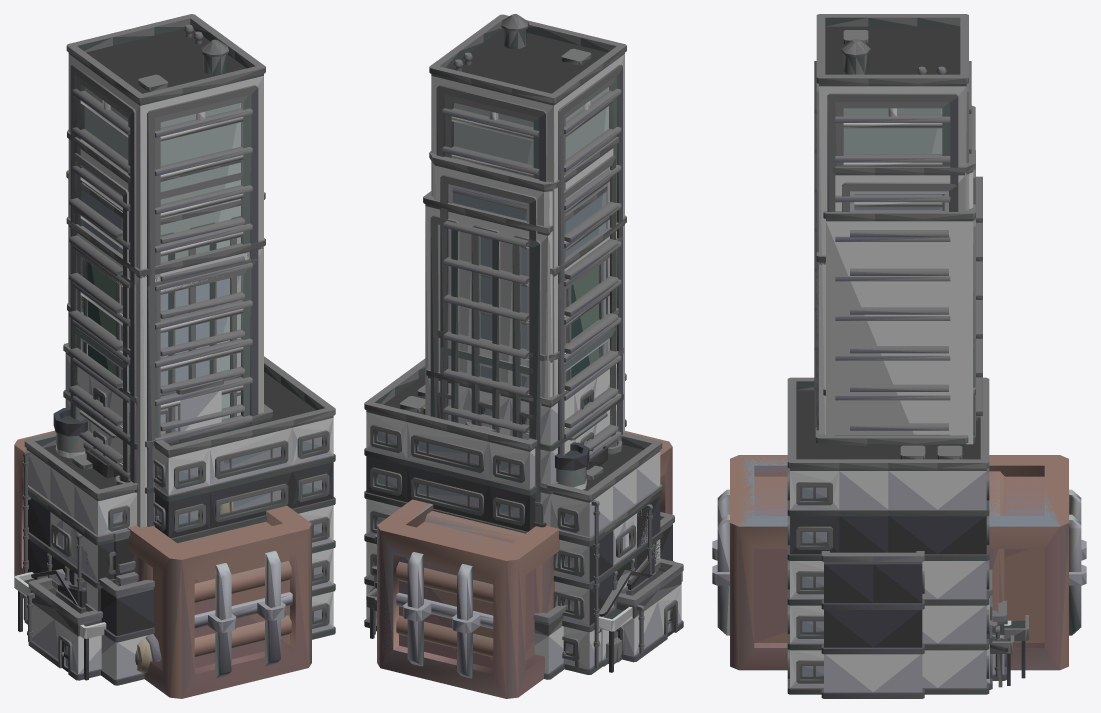
Rendered from meridian-city-buildings.glb.
3 renders of one model, left to right at view 1: azimuth 30°, elevation 25°; view 2: azimuth 150°, elevation 25°; view 3: azimuth 270°, elevation 25°, orthographic. The views are drawn at different scales.
Visible parts, largest first — view 1: com-building-skyscraper-d, ind-shipping-container-a, com-building-n, com-building-skyscraper-c, com-building-skyscraper-b, com-building-j, ind-building-r, com-building-skyscraper-e, ind-building-q, com-building-skyscraper-a, ind-building-a, com-building-m (+5 smaller); view 2: com-building-skyscraper-d, ind-shipping-container-a, com-building-skyscraper-b, com-building-n, com-building-skyscraper-e, com-building-j, com-building-m, com-building-skyscraper-c, com-building-skyscraper-a, ind-shipping-container-b, ind-building-r, ind-building-a (+5 smaller); view 3: com-building-n, com-building-skyscraper-d, ind-shipping-container-a, com-building-skyscraper-e, ind-building-r, com-building-skyscraper-b, ind-shipping-container-b, com-building-skyscraper-c, com-building-skyscraper-a, com-building-l, ind-building-c, ind-building-l (+1 smaller).
Part boxes in pixels (x1,y1,x2,y2): com-building-skyscraper-d: [66, 14, 265, 527]; ind-shipping-container-a: [14, 430, 311, 698]; com-building-n: [14, 356, 335, 680]; com-building-skyscraper-c: [66, 216, 265, 527]; com-building-skyscraper-b: [67, 129, 244, 472]; com-building-j: [23, 432, 136, 624]; ind-building-r: [27, 577, 102, 680]; com-building-skyscraper-e: [66, 170, 265, 438]; ind-building-q: [47, 553, 322, 685]; com-building-skyscraper-a: [67, 302, 244, 472]; ind-building-a: [23, 485, 124, 620]; com-building-m: [63, 343, 241, 492]; com-building-skyscraper-d: [429, 14, 626, 454]; ind-shipping-container-a: [377, 431, 672, 698]; com-building-skyscraper-b: [429, 136, 618, 447]; com-building-n: [364, 358, 682, 672]; com-building-skyscraper-e: [423, 185, 607, 523]; com-building-j: [533, 432, 662, 674]; com-building-m: [426, 347, 623, 526]; com-building-skyscraper-c: [550, 215, 626, 459]; com-building-skyscraper-a: [437, 308, 618, 455]; ind-shipping-container-b: [380, 445, 668, 677]; ind-building-r: [615, 555, 683, 662]; ind-building-a: [553, 484, 662, 669]; com-building-n: [787, 377, 1011, 694]; com-building-skyscraper-d: [814, 14, 971, 435]; ind-shipping-container-a: [712, 455, 1086, 670]; com-building-skyscraper-e: [823, 150, 975, 444]; ind-building-r: [821, 551, 924, 698]; com-building-skyscraper-b: [816, 105, 982, 430]; ind-shipping-container-b: [712, 456, 1086, 635]; com-building-skyscraper-c: [814, 252, 950, 435]; com-building-skyscraper-a: [816, 343, 982, 430]; com-building-l: [815, 416, 980, 446]; ind-building-c: [992, 600, 1028, 680]; ind-building-l: [986, 569, 1014, 685].
Size of the model in its own units: 2.48 by 5.47 by 3.05.
